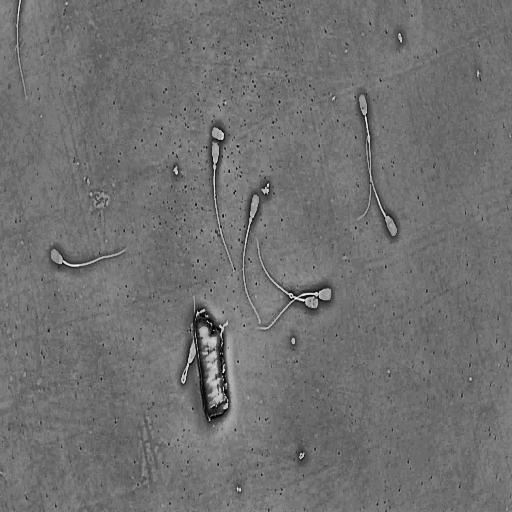dirt-particles: (192, 304, 230, 425), (260, 181, 271, 196), (172, 163, 179, 177), (397, 30, 404, 44), (299, 450, 306, 462), (290, 336, 296, 346)
distal-droplet: (367, 134, 371, 143), (289, 293, 294, 299)
folded-tail: (181, 293, 196, 384)
loose-head: (209, 123, 226, 144)
loose-tail: (15, 0, 29, 107)
normal: (256, 236, 320, 311), (365, 128, 399, 239), (256, 285, 334, 332), (210, 138, 237, 273), (241, 191, 262, 325), (356, 91, 373, 223), (48, 244, 129, 271), (180, 292, 199, 386)
proximal-droplet: (212, 163, 217, 171), (249, 217, 253, 223), (315, 291, 318, 297)
